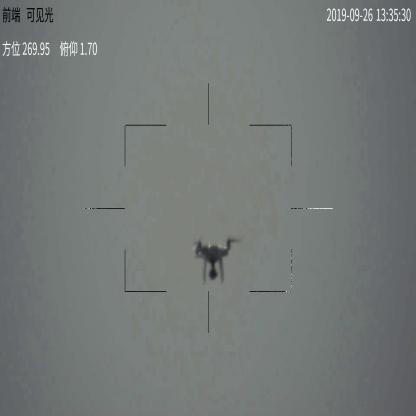uav: (192, 238, 236, 284)
